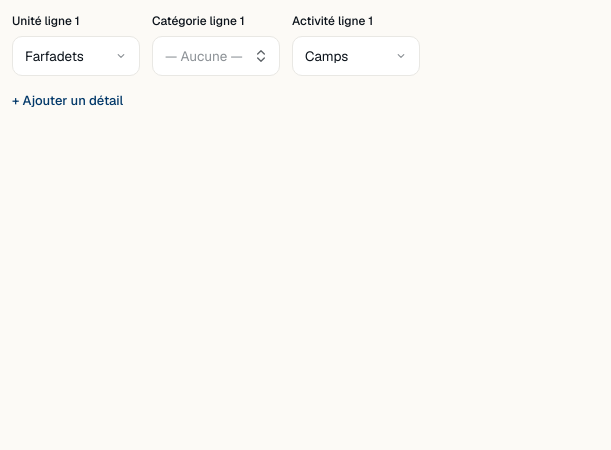
it: ImputationGrid › ajouter un 3ᵉ détail hérite de la dernière ligne
Click the button "+ Ajouter un détail".
click(68, 101)  # box [12,91,123,110]
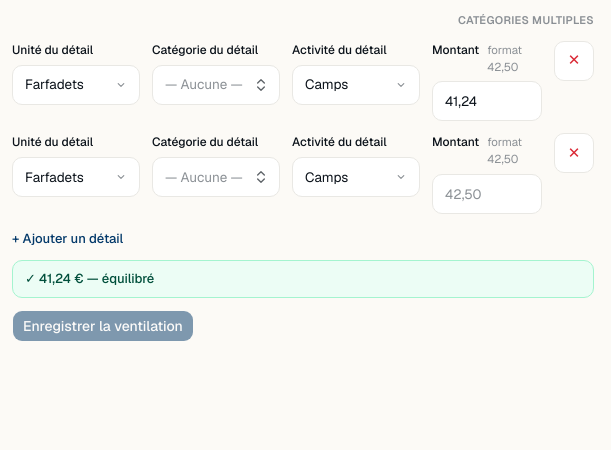
Click the button "+ Ajouter un détail".
click(68, 238)  # box [12,228,123,248]
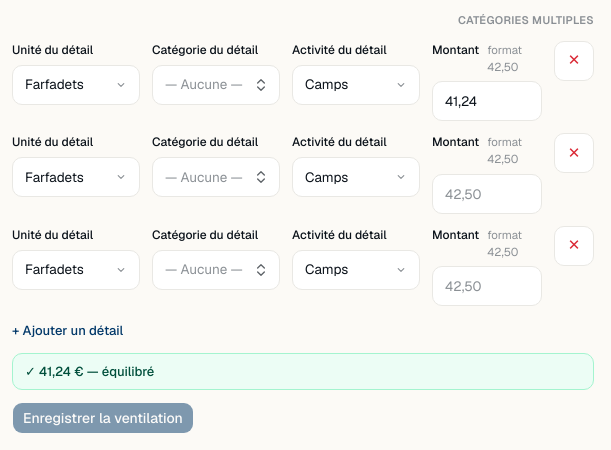
Expected: the number of dropdowns labelled "Unité du détail" is 3, [12,64,140,104]; [12,157,140,197]; [12,250,140,290]
Expected: the 3rd dropdown labelled "Unité du détail" shows "Farfadets", [12,250,140,290]
